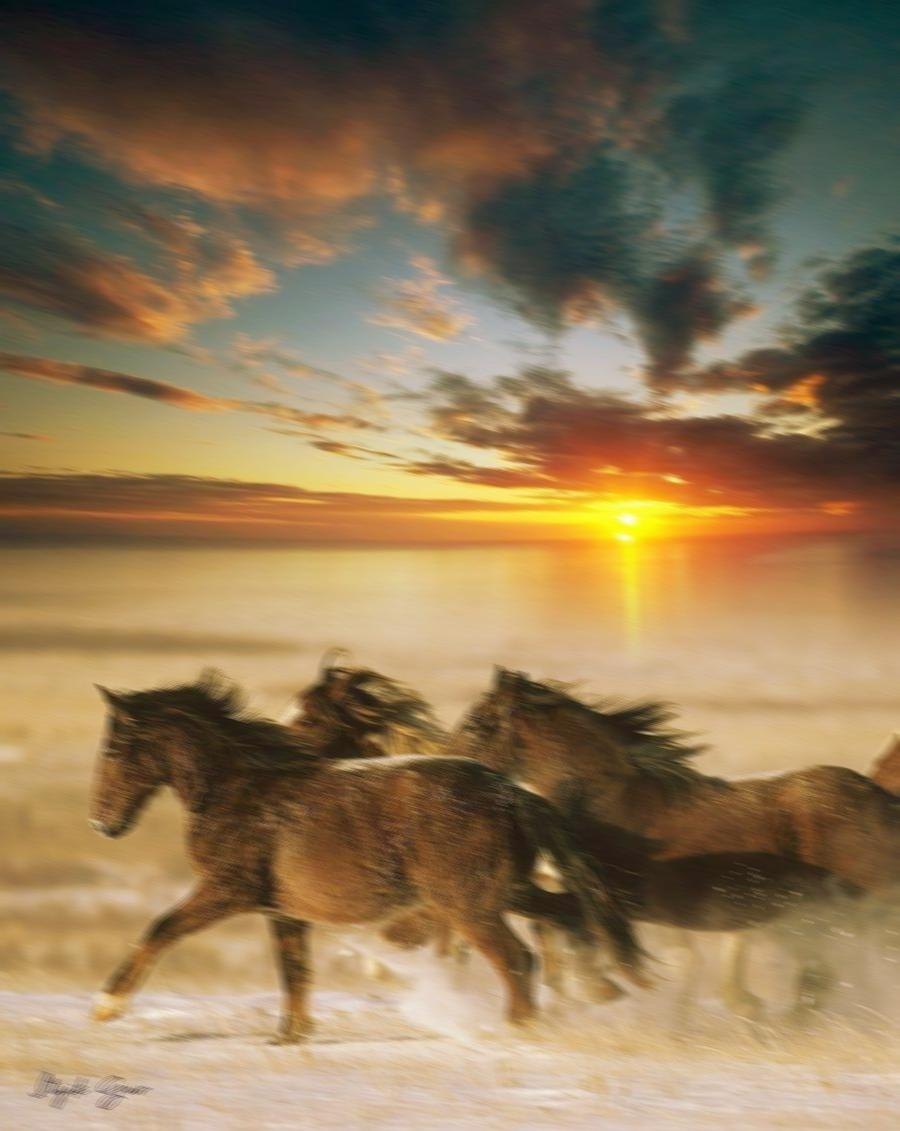horse: (87, 663, 666, 1046), (433, 662, 899, 1045)
